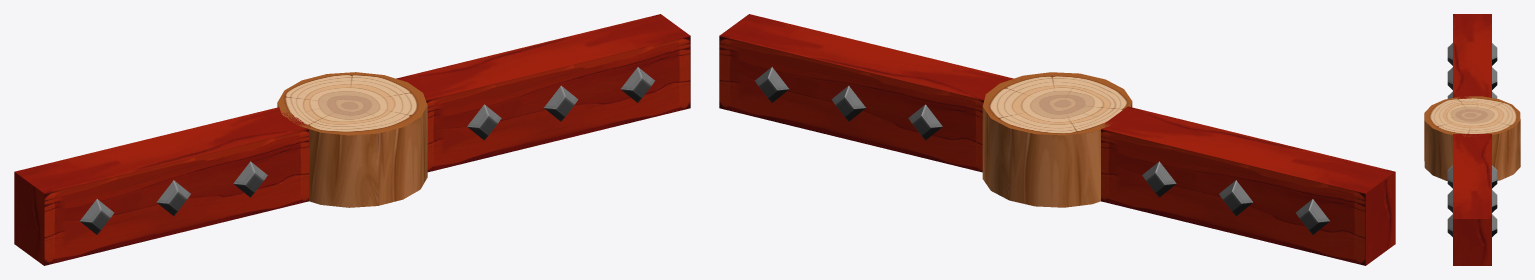
File: two_blade_red_02.fbx
3 views of the same model, side by side, from view 1: azimuth 30°, elevation 25°; view 2: azimuth 150°, elevation 25°; view 3: azimuth 270°, elevation 25° (orthographic). The views are drawn at different scales.
Parts seen in each view (by area): view 1: Blade_76, Blade_75, wood_center_1; view 2: Blade_76, Blade_75, wood_center_1; view 3: Blade_75, wood_center_1, Blade_76.
Boxes of the visible parts, x1,y1,x2,y2 form: Blade_76: (14,107,310,265); Blade_75: (396,14,690,172); wood_center_1: (277,72,427,207); Blade_76: (1101,106,1395,265); Blade_75: (719,14,1014,172); wood_center_1: (982,72,1132,207); Blade_75: (1447,134,1497,265); wood_center_1: (1424,96,1520,180); Blade_76: (1447,14,1497,98).
Bounding box in the file's own units: 374 × 40 × 74.15.
